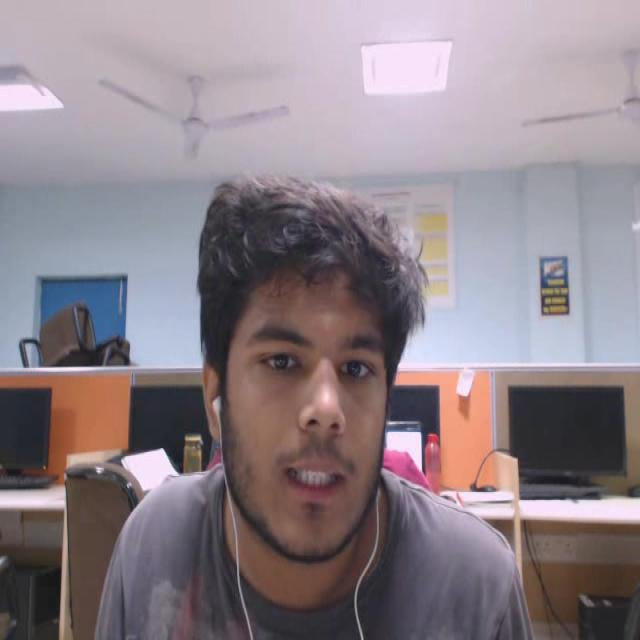Bored: (171, 134, 434, 594)
